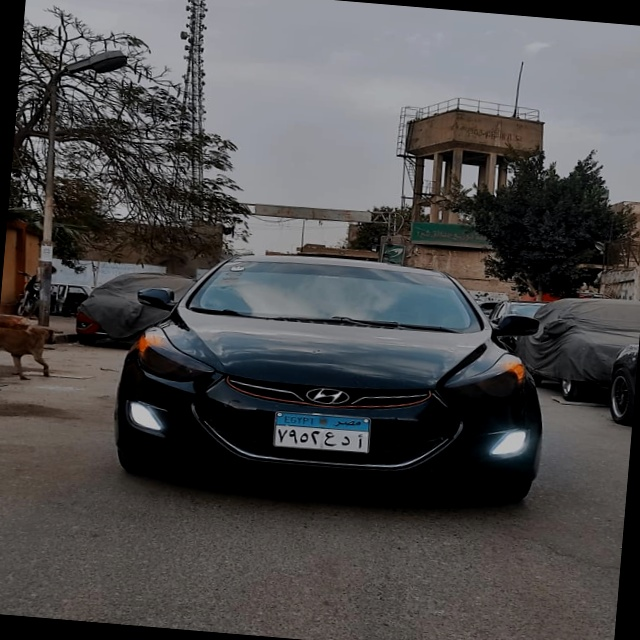License Plate: (271, 409, 374, 457)
